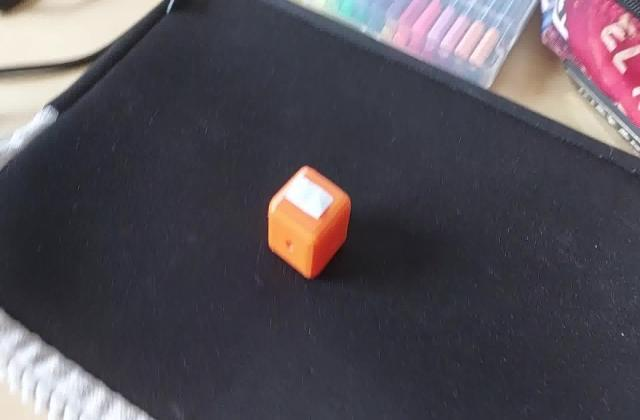sticker: (262, 164, 352, 284)
white: (289, 184, 338, 222)
